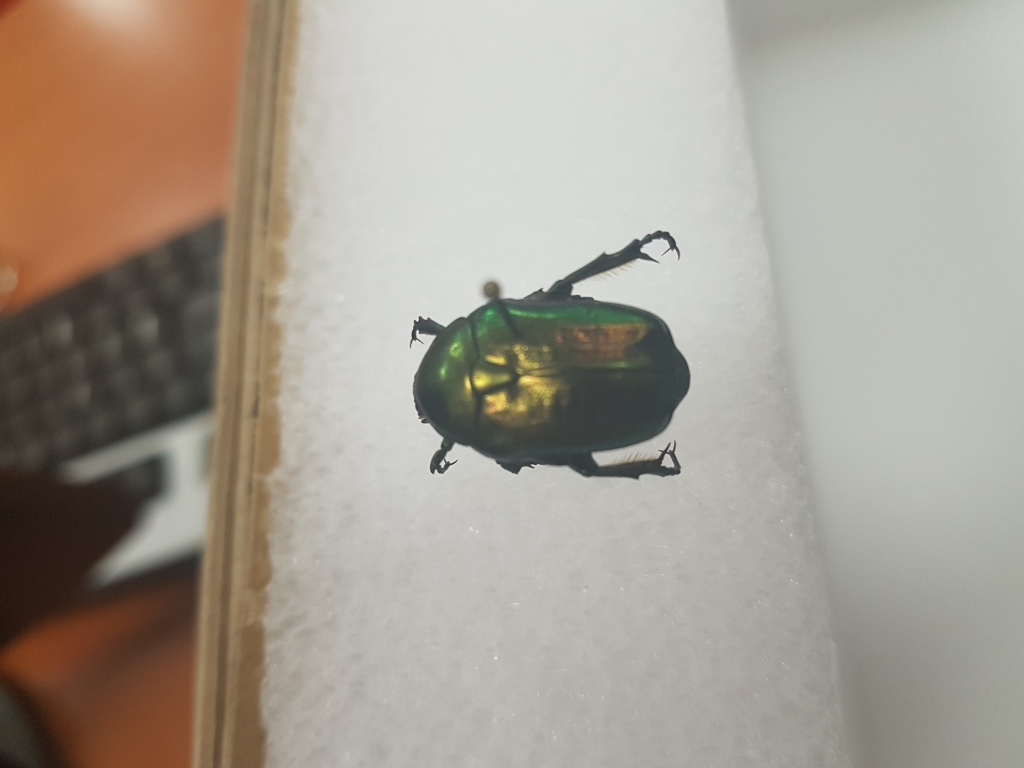Cetonia_aurata: (369, 221, 706, 485)
